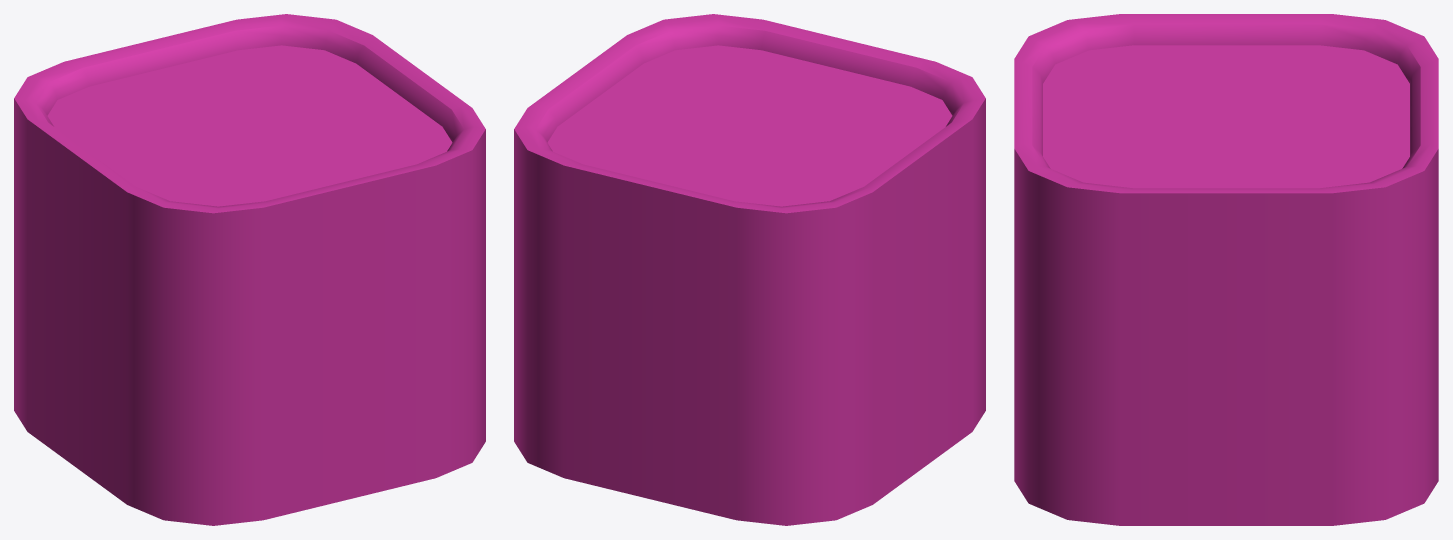
File: stage.fbx
3 views of the same model, side by side, from view 1: azimuth 30°, elevation 25°; view 2: azimuth 150°, elevation 25°; view 3: azimuth 270°, elevation 25° (orthographic). The views are drawn at different scales.
Visible parts, largest first — view 1: pCube1; view 2: pCube1; view 3: pCube1.
Boxes of the visible parts, x1=… form: pCube1: x1=14, y1=14, x2=485, y2=525; pCube1: x1=514, y1=14, x2=985, y2=525; pCube1: x1=1014, y1=14, x2=1438, y2=525.
Bounding box in the file's own units: 1.16 × 1 × 1.16.
1 material, 1 textured.
